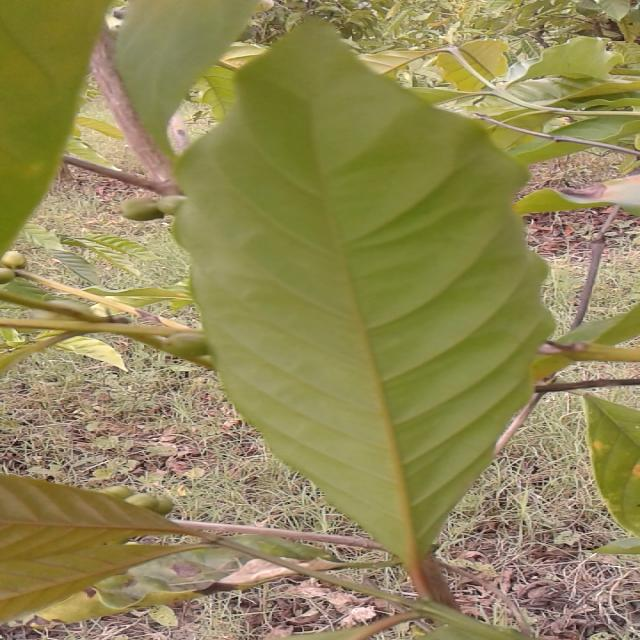Sanas: (170, 18, 556, 606)
